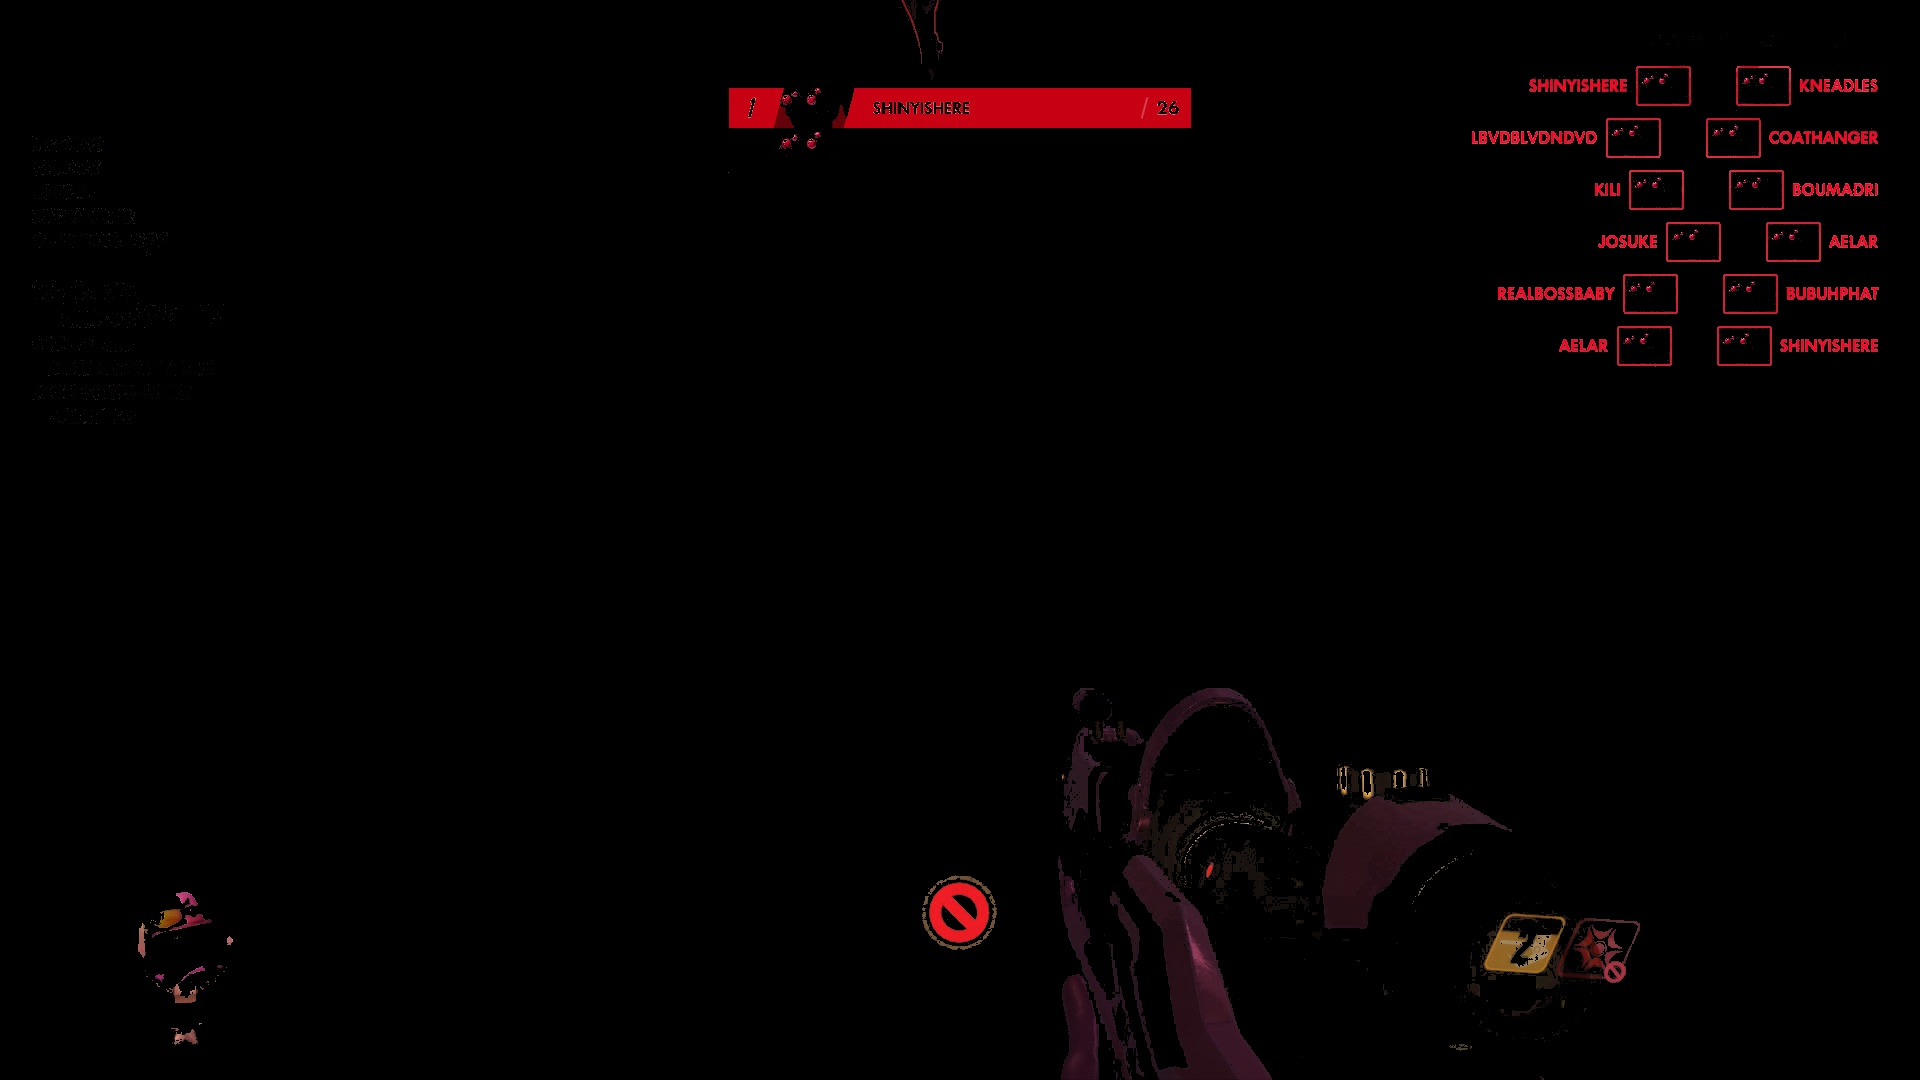widowmaker: (887, 1, 955, 87)
